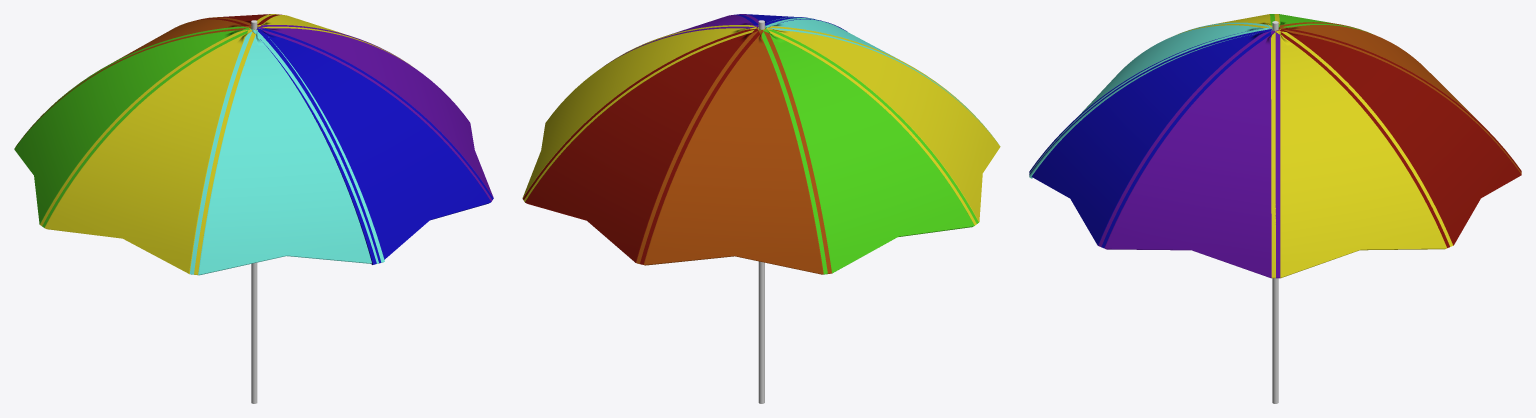
The model's file is Umbrella prefab.fbx.
3 views of the same model, side by side, from view 1: azimuth 30°, elevation 25°; view 2: azimuth 150°, elevation 25°; view 3: azimuth 270°, elevation 25° (orthographic).
Parts seen in each view (by area): view 1: Arc015, Arc014, Arc006, Arc013, Arc009, Arc012, Cylinder001, Arc010; view 2: Arc012, Arc013, Arc011, Arc014, Arc010, Arc015, Cylinder001, Arc009, Arc006; view 3: Arc009, Arc010, Arc011, Arc006, Arc015, Arc012, Cylinder001, Arc014, Arc013.
Boxes of the visible parts, x1,y1,x2,y2 form: Arc015: (189, 29, 384, 275); Arc014: (40, 27, 257, 275); Arc006: (252, 27, 493, 264); Arc013: (14, 26, 252, 227); Arc009: (257, 25, 493, 201); Arc012: (16, 17, 251, 146); Cylinder001: (251, 20, 257, 403); Arc010: (257, 14, 412, 66); Arc012: (636, 29, 831, 274); Arc013: (758, 27, 978, 274); Arc011: (523, 27, 762, 264); Arc014: (763, 26, 1000, 225); Arc010: (522, 25, 758, 201); Arc015: (765, 17, 998, 143); Cylinder001: (758, 20, 764, 403); Arc009: (603, 14, 758, 66); Arc006: (734, 14, 847, 31); Arc009: (1098, 29, 1280, 278); Arc010: (1271, 29, 1452, 278); Arc011: (1276, 27, 1521, 247); Arc006: (1029, 29, 1274, 248); Arc015: (1029, 22, 1272, 178); Arc012: (1278, 22, 1521, 174); Cylinder001: (1272, 21, 1278, 403); Arc014: (1177, 14, 1279, 34); Arc013: (1270, 14, 1371, 33).
Size of the model in its own units: 79.26 by 67.54 by 79.26.
